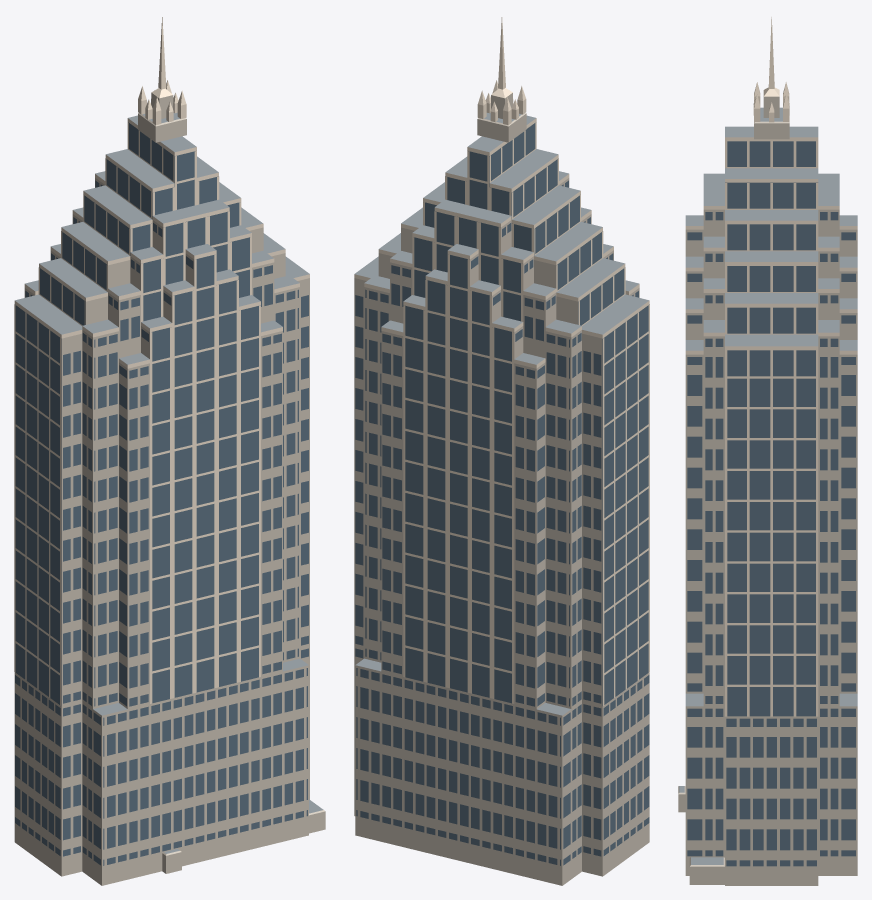
File: atl-promenade-ii.glb
The picture shows the model from 3 angles, left to right: view 1: azimuth 30°, elevation 25°; view 2: azimuth 150°, elevation 25°; view 3: azimuth 270°, elevation 25°; orthographic projection.
Parts seen in each view (by area): view 1: Promenade II; view 2: Promenade II; view 3: Promenade II.
Part boxes in pixels (box(x1,y1,x2,y2)): Promenade II: box(14, 17, 325, 885); Promenade II: box(354, 17, 649, 885); Promenade II: box(678, 17, 857, 885).
Bounding box in the file's own units: 67.3 × 211 × 42.25.
